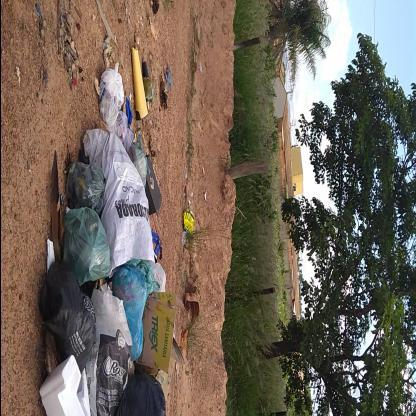lixo: (38, 46, 174, 416)
